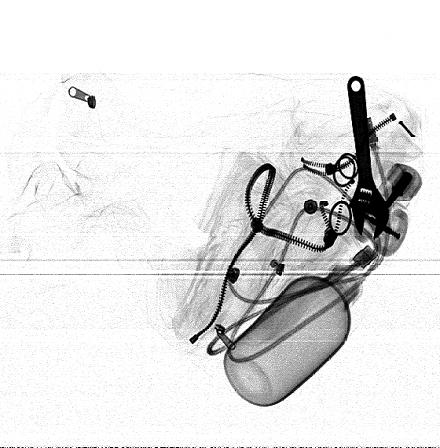Wrench: (346, 73, 390, 244)
